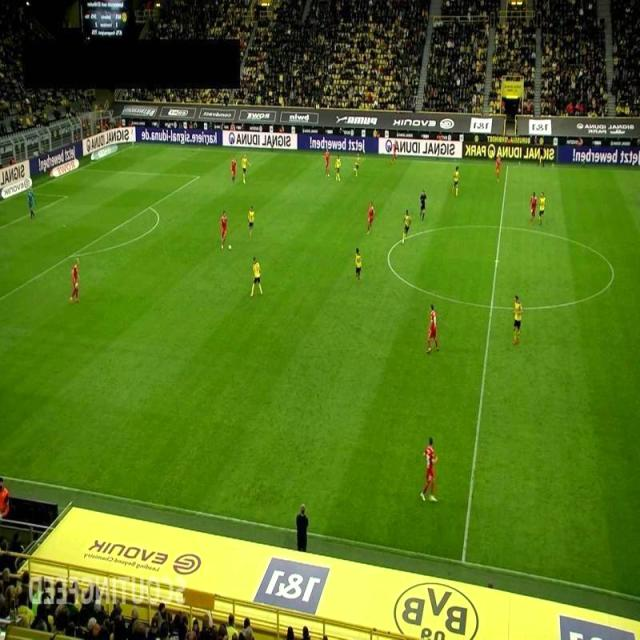bigarea_top_inner: (193, 172, 204, 182)
bigarea_top_outter: (74, 164, 86, 176)
bottom_arc_area_intersection: (62, 249, 78, 264)
corner: (128, 142, 138, 153)
halfcircle_bottom: (486, 300, 498, 314)
halfcircle_top: (494, 220, 508, 233)
midline_bottom_intersection: (452, 553, 476, 572)
midline_top_intersection: (502, 160, 514, 170)
smallarea_top_inner: (62, 190, 72, 201)
top_arc_area_intersection: (144, 202, 154, 213)
